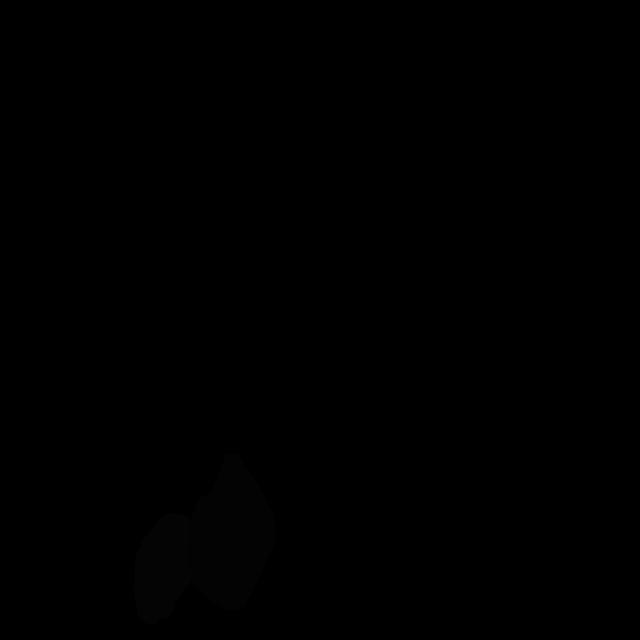metal: (188, 454, 276, 611)
soft_plastic: (134, 512, 194, 625)
